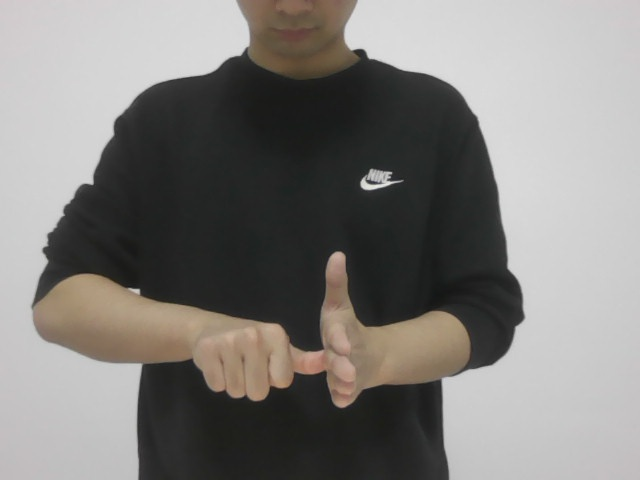time: (194, 252, 382, 423)
